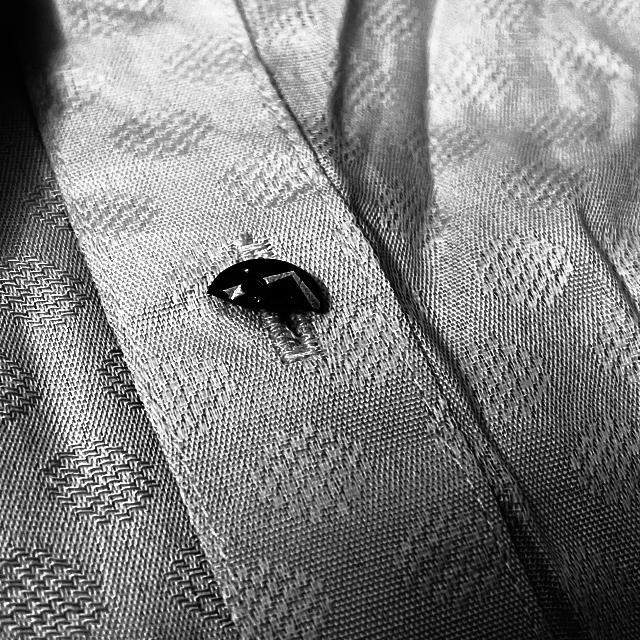Broken_button: (191, 247, 340, 338)
